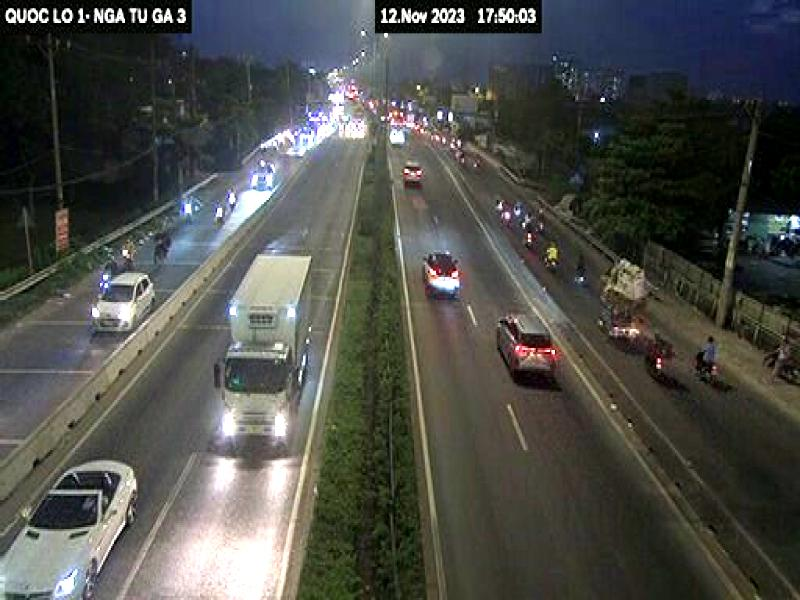bus: (215, 245, 314, 460)
